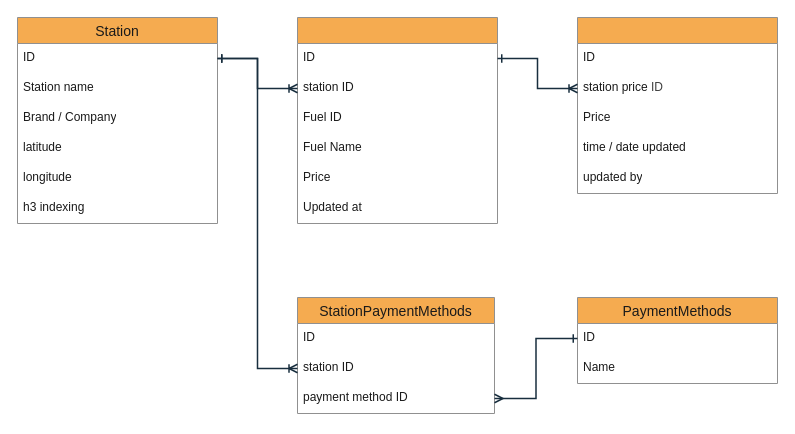
Image size: 795x434. Some labels were removed from this diagram. The box of each missing label's shape, as (x1, y1, x2, y2) in pixels:
StationPriceHistory: (576, 16, 778, 194)
StationPrices: (296, 16, 498, 224)
